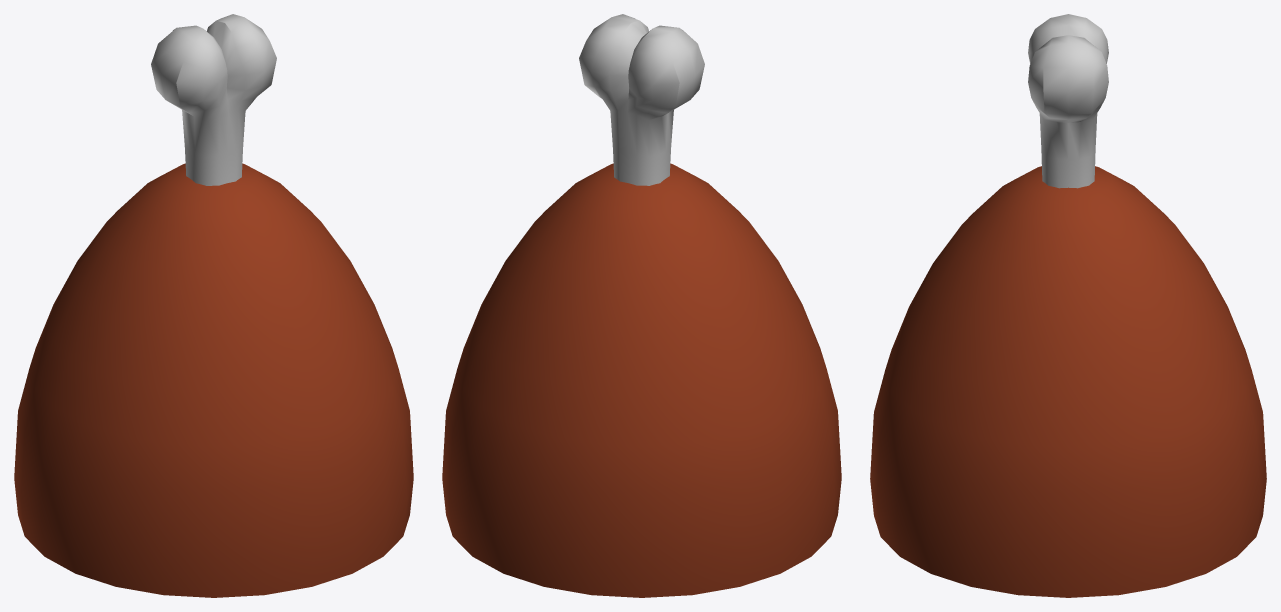
Rendered from hamLeg.obj.
3 views of the same model, side by side, from view 1: azimuth 30°, elevation 25°; view 2: azimuth 150°, elevation 25°; view 3: azimuth 270°, elevation 25° (orthographic).
Parts seen in each view (by area): view 1: hamLeg_Cube.6074; view 2: hamLeg_Cube.6074; view 3: hamLeg_Cube.6074.
Part boxes in pixels (x1,y1,x2,y2): hamLeg_Cube.6074: (14, 14, 413, 597); hamLeg_Cube.6074: (442, 14, 841, 597); hamLeg_Cube.6074: (870, 14, 1266, 597).
Bounding box in the file's own units: 0.5825 × 0.8545 × 0.5825.
